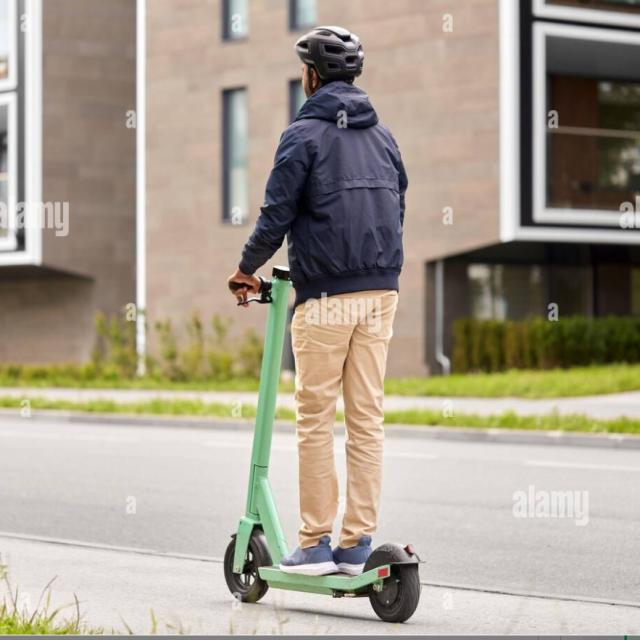helmet: (203, 12, 453, 628)
